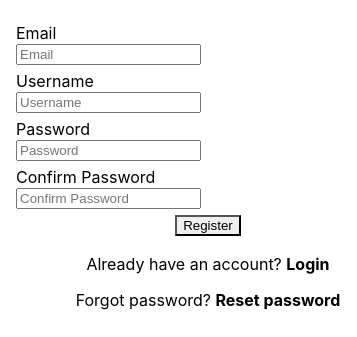
Test: it renders › handles input and renders error message
Type "test" into the field with placeholder "Username" at {"x": 108, "y": 102}, box top-left (16, 92), bottom-right (201, 112)
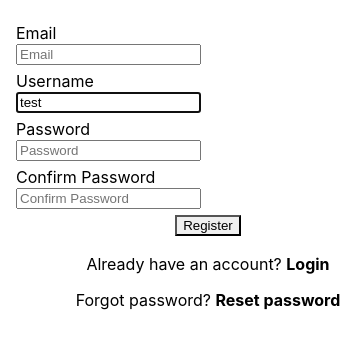
Type "test@gmail.com" into the field with placeholder "Email" at {"x": 108, "y": 54}, box top-left (16, 44), bottom-right (201, 64)
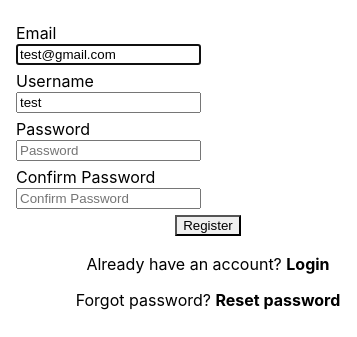
Type "test" into the password field with placeholder "Password" at {"x": 108, "y": 150}, box top-left (16, 140), bottom-right (201, 160)
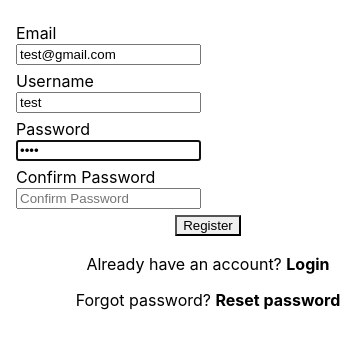
Type "test2" into the password field with placeholder "Confirm Password" at {"x": 108, "y": 198}, box top-left (16, 188), bottom-right (201, 208)
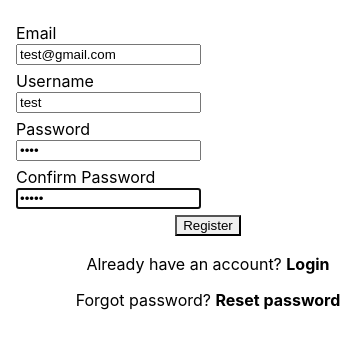
Click the button at {"x": 208, "y": 225}, box top-left (175, 214), bottom-right (241, 236)
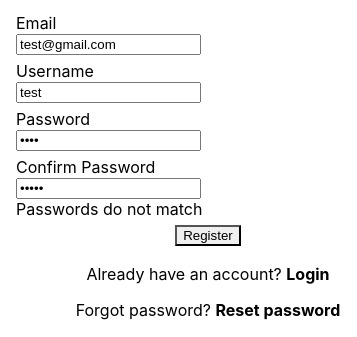
Check: the text "Passwords do not match" is shown, box top-left (16, 198), bottom-right (202, 218)
